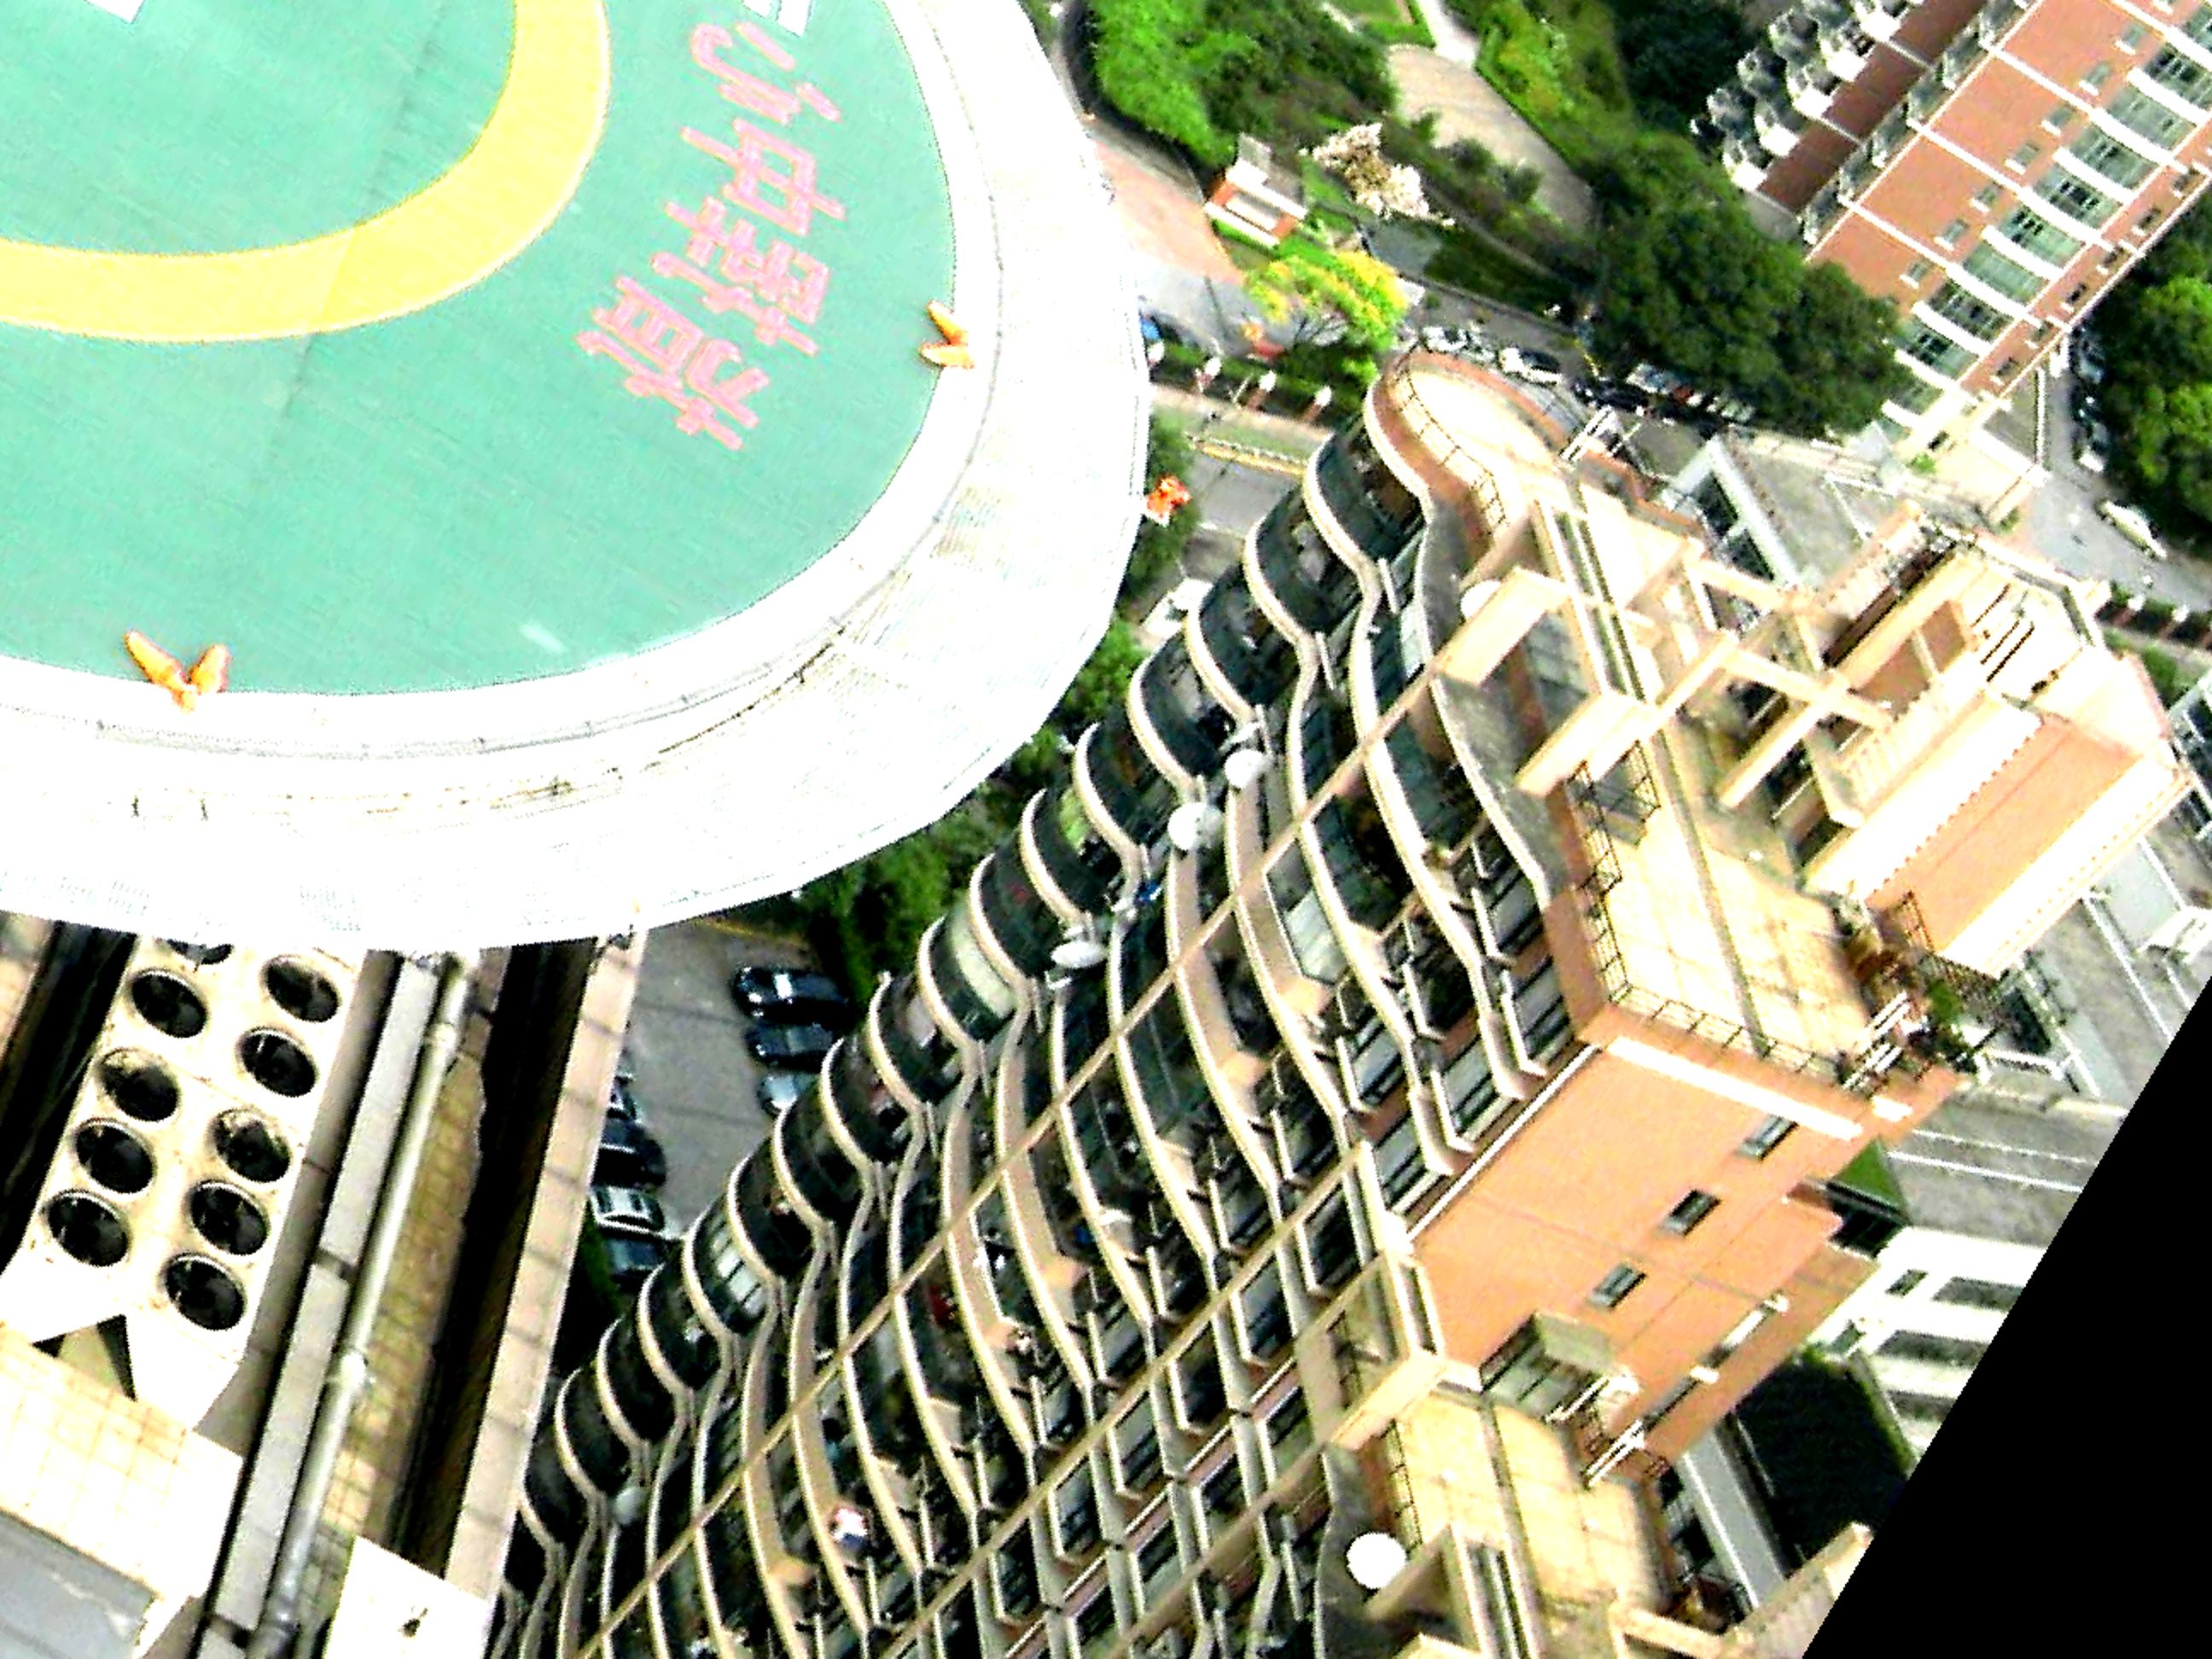Apron: (0, 0, 622, 368)
